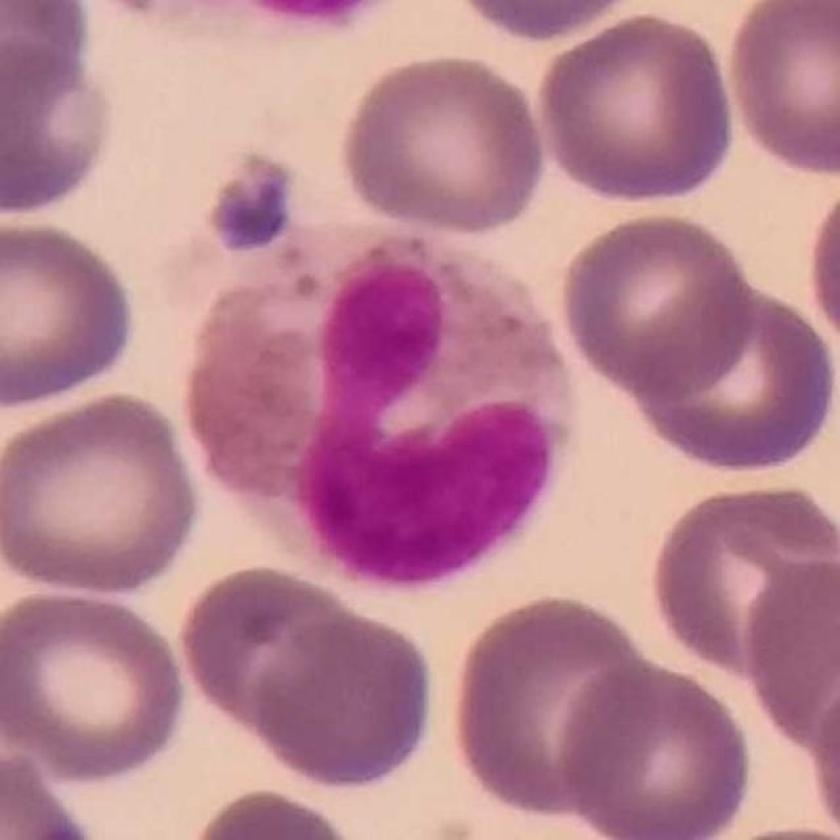eosinophil: (187, 209, 584, 595)
